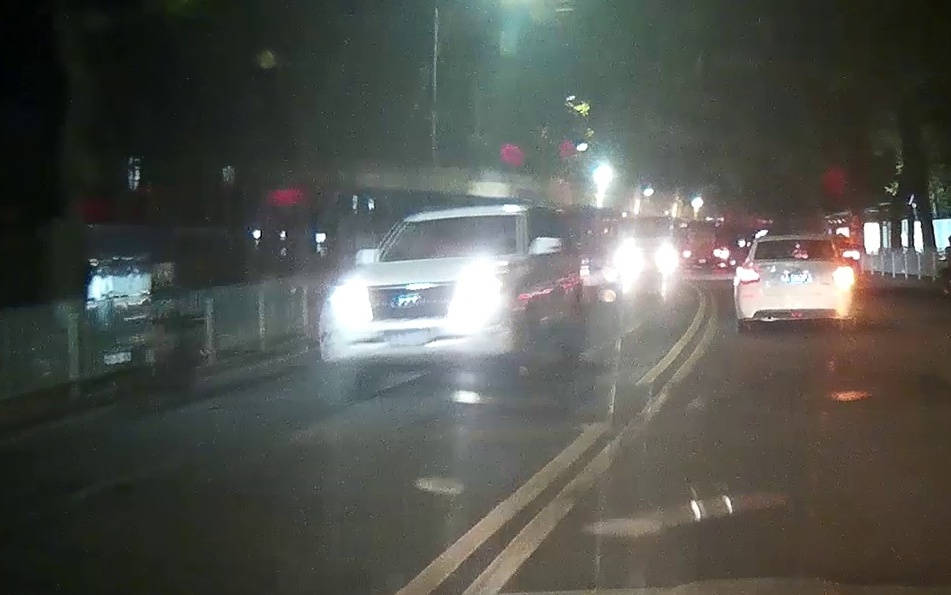L_light: (736, 268, 760, 283)
R_light: (833, 268, 853, 284)
T_light: (791, 253, 807, 259)
night-right: (730, 229, 858, 331)
